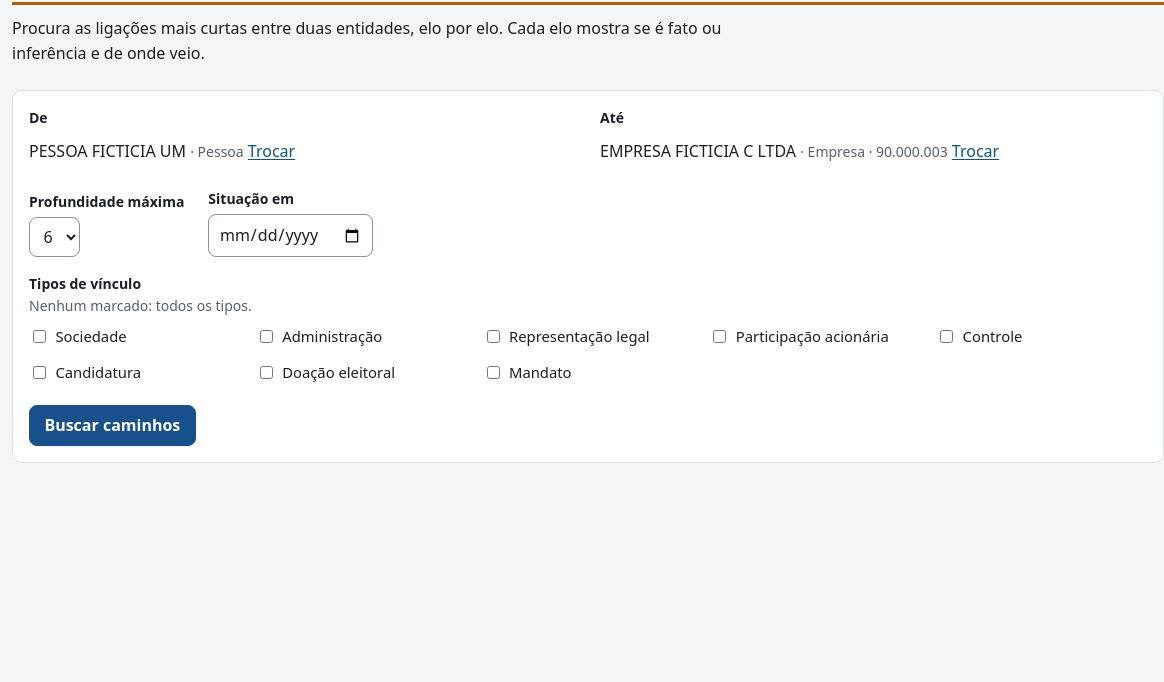
Test case: PathsPage › caminho com elo inferido ou identidade unida mostra "contém inferência ou identidade unida"
Check: the text "EMPRESA FICTICIA C LTDA" is shown, box [600,140,796,162]
Click the button "Buscar caminhos" at (112, 425), box [29,404,196,446]
(page scrolled)
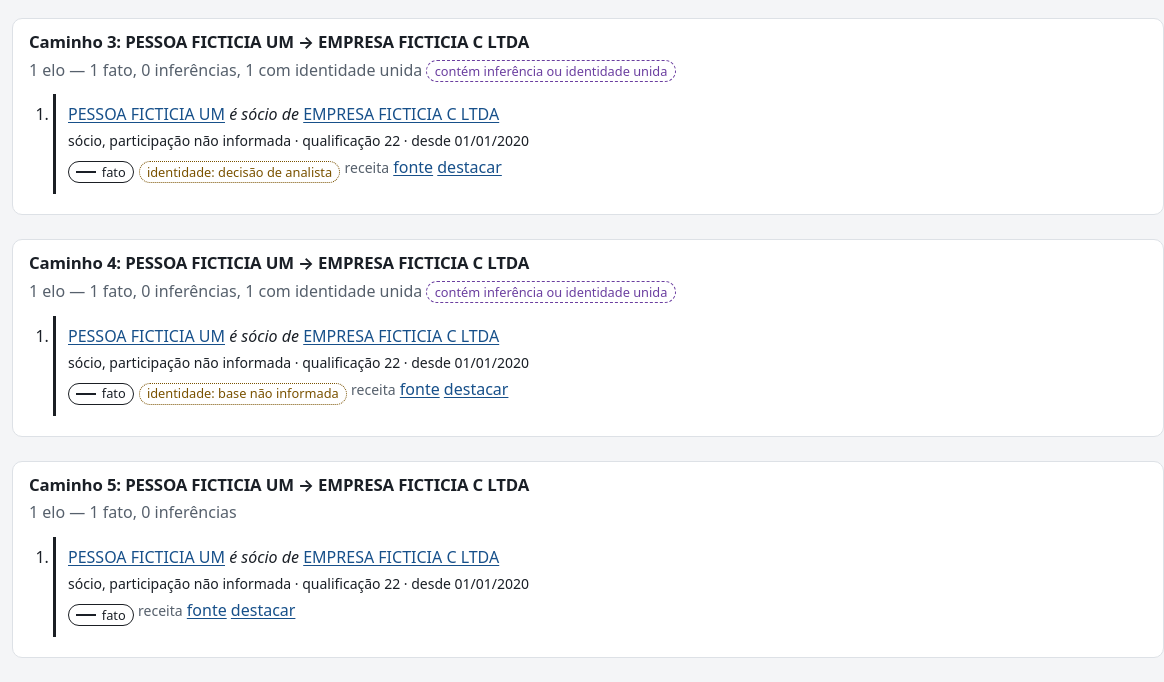
Check: the 1st text "contém inferência ou identidade unida" is shown, box [426,60,676,82]
Check: the text "identidade: decisão de analista" is shown, box [139,161,340,183]
Check: the 2nd text "contém inferência ou identidade unida" is shown, box [426,281,676,303]
